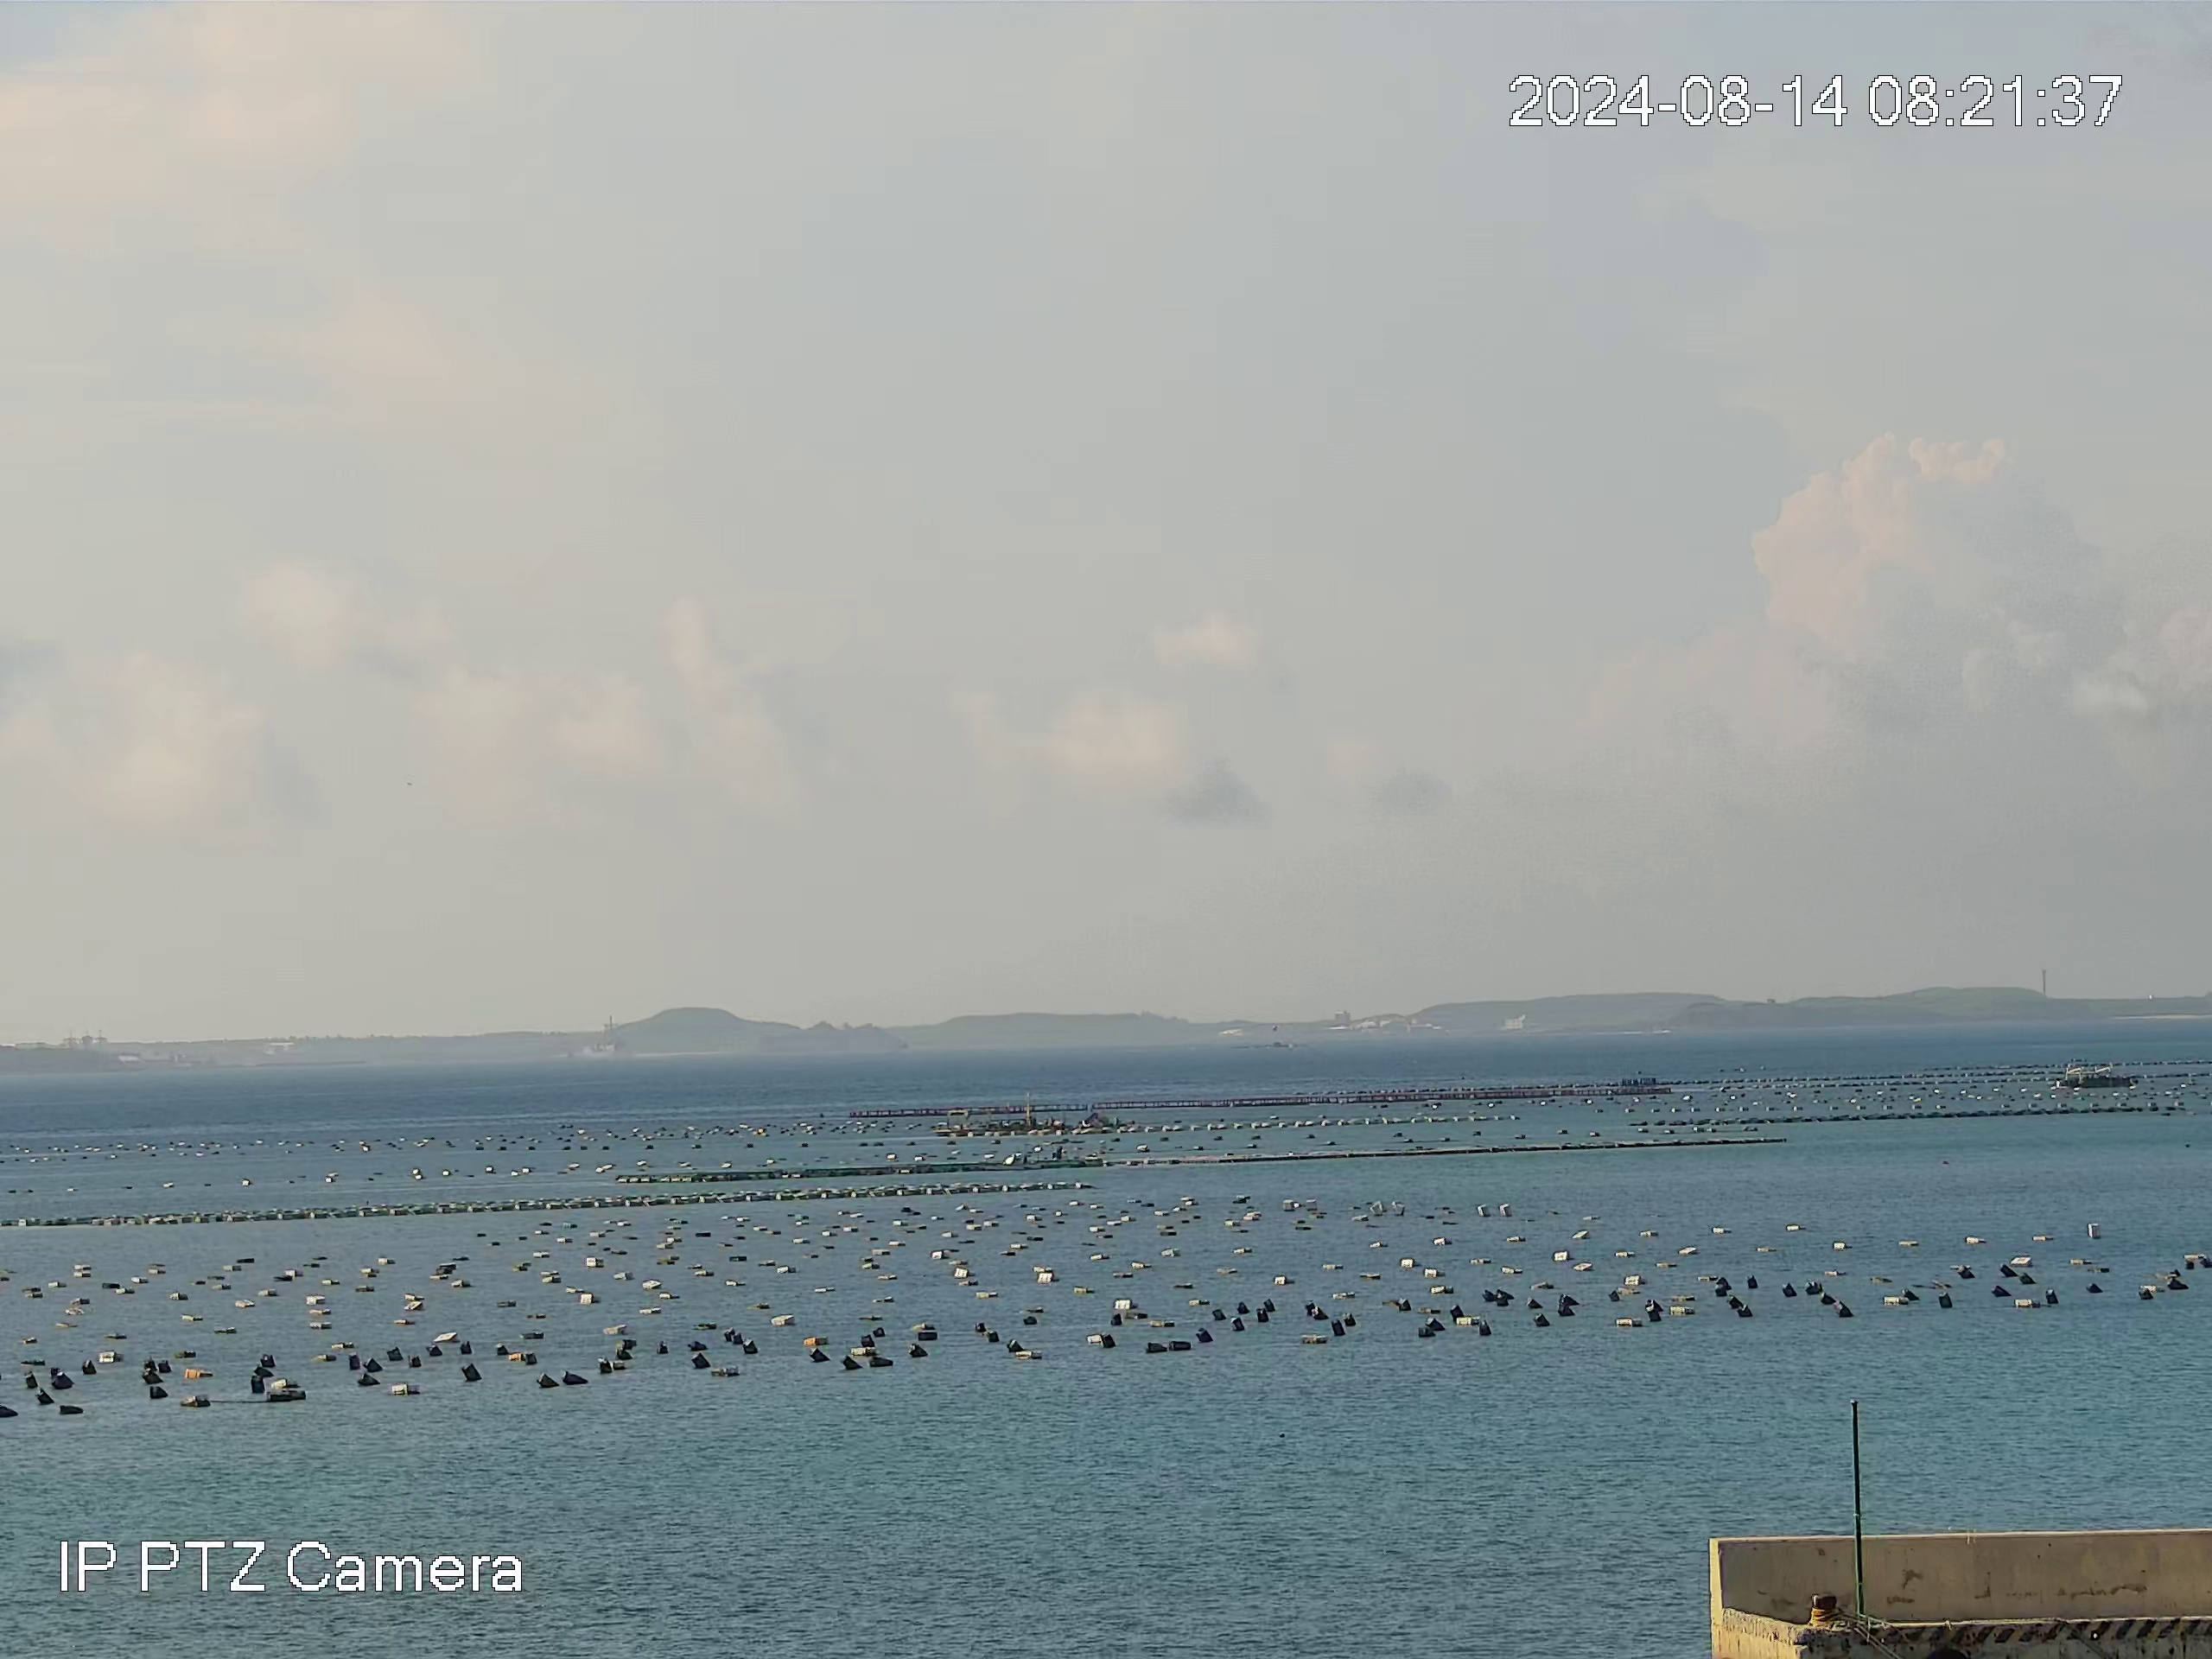boat: (2052, 1069, 2135, 1093)
